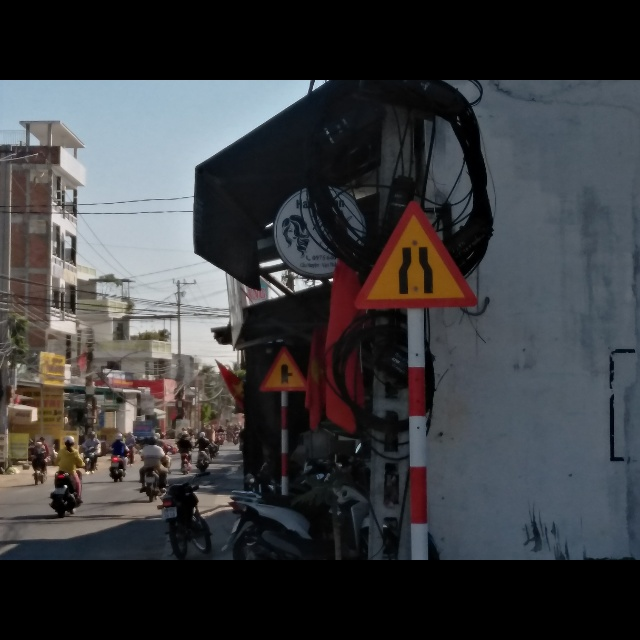Giao nhau với đường không ưu tiên: (259, 345, 310, 393)
Đường bị hẹp cả hai bên: (353, 197, 483, 311)
